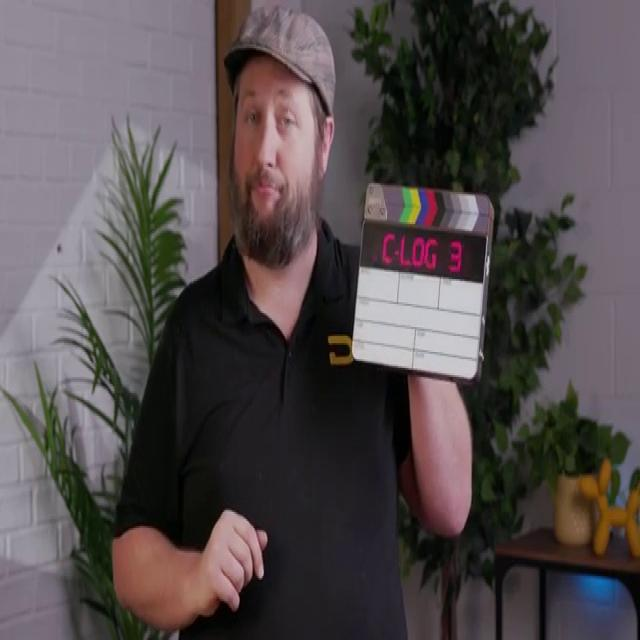Clapperboard: (349, 175, 500, 391)
